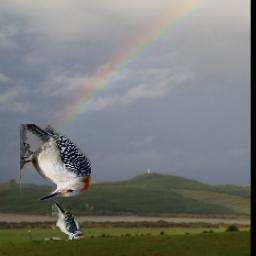Woodpecker: (21, 125, 92, 201), (52, 201, 84, 242)
